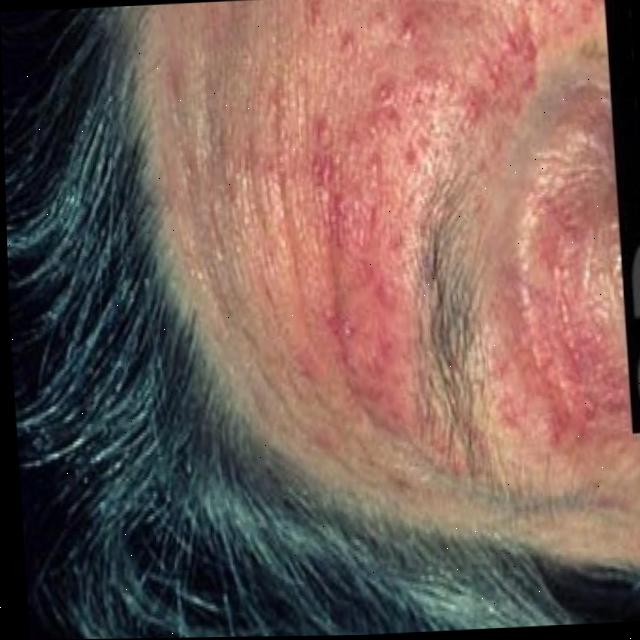Rosacea: (309, 78, 450, 423), (483, 212, 622, 430)
